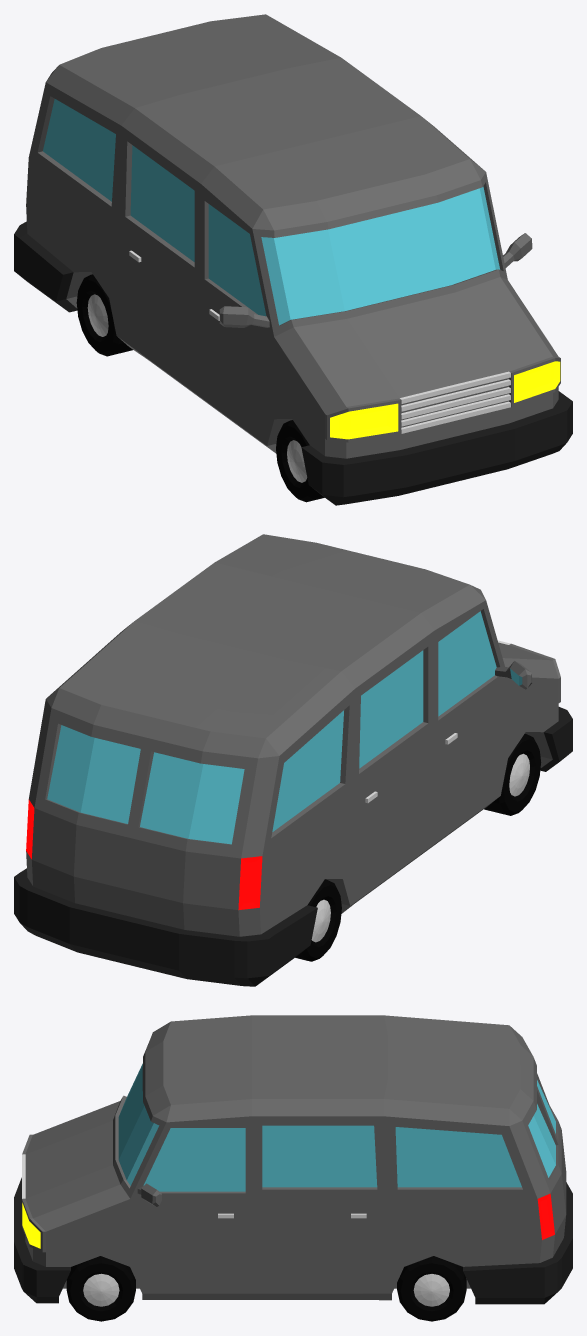
File: van.fbx
3 renders of one model, top to bottom at view 1: azimuth 30°, elevation 25°; view 2: azimuth 150°, elevation 25°; view 3: azimuth 270°, elevation 25°, orthographic. The views are drawn at different scales.
Parts seen in each view (by area): view 1: minivan, minivan_rear.r, minivan_front.r; view 2: minivan, minivan_front.r, minivan_rear.r; view 3: minivan, minivan_front.l, minivan_rear.l.
Part boxes in pixels (x1,y1,x2,y2): minivan: (14, 14, 572, 505); minivan_rear.r: (76, 274, 132, 356); minivan_front.r: (276, 420, 324, 502); minivan: (14, 534, 572, 986); minivan_front.r: (484, 734, 541, 815); minivan_rear.r: (295, 879, 341, 961); minivan: (14, 1015, 572, 1304); minivan_front.l: (66, 1256, 135, 1321); minivan_rear.l: (397, 1256, 466, 1321).
Bounding box in the file's own units: 300 × 244 × 563.
